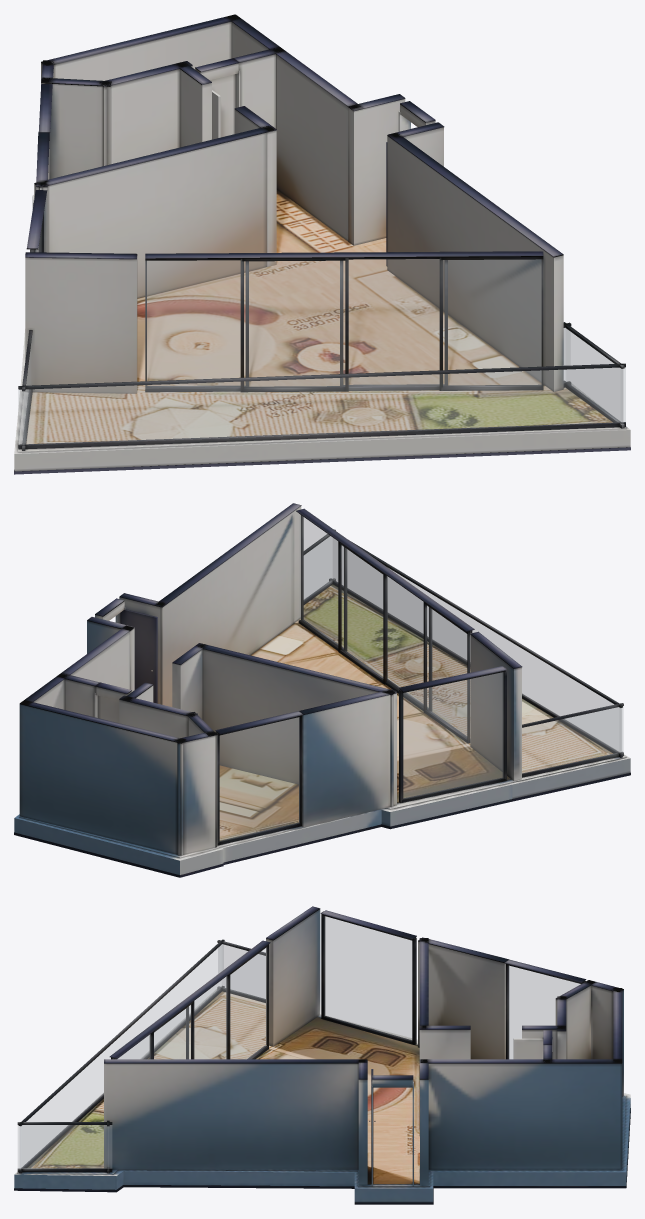
3 views of the same model, one above another, from view 1: azimuth 30°, elevation 25°; view 2: azimuth 150°, elevation 25°; view 3: azimuth 270°, elevation 25° (orthographic). The views are drawn at different scales.
Visible parts, largest first — view 1: plan, glass2_m, railg2_m, railg1_m; view 2: plan, glass2_m, glass1_m, railg2_m, glass0_m, railg3_m, railg1_m; view 3: plan, glass1_m, glass2_m, railg2_m, railg1_m, glass0_m, railg3_m.
Part boxes in pixels (x1,y1,x2,y2): plan: (14,14,630,474); glass2_m: (145,259,541,387); railg2_m: (18,367,625,444); railg1_m: (564,328,623,424); plan: (14,503,630,877); glass2_m: (300,515,466,736); glass1_m: (403,672,503,798); railg2_m: (333,538,621,754); glass0_m: (220,717,299,841); railg3_m: (522,706,623,773); railg1_m: (304,536,331,600); plan: (14,906,630,1204); glass1_m: (324,916,411,1040); glass2_m: (118,948,266,1058); railg2_m: (20,944,223,1169); railg1_m: (18,1125,111,1168); glass0_m: (508,966,580,1058); railg3_m: (218,944,265,998).
Bounding box in the file's own units: 9.17 × 2.62 × 11.85.
2 materials, 1 textured.
